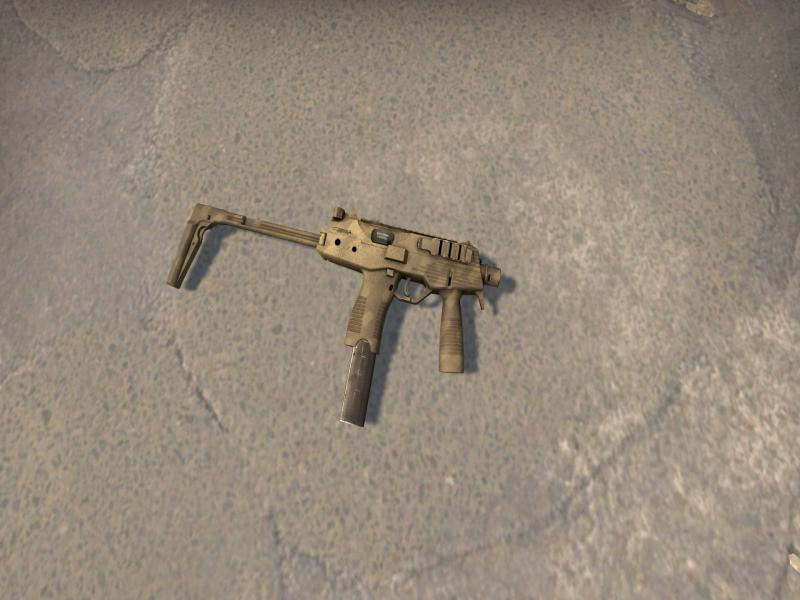MP9: (168, 203, 501, 424)
